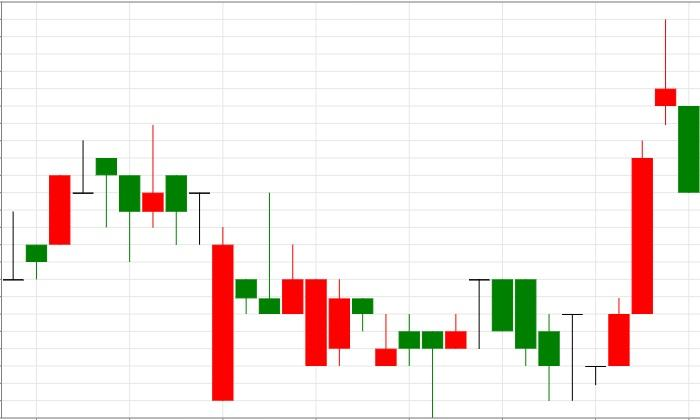hanging_man_fall: (2, 141, 118, 281)
inverse_hammer_rise: (96, 124, 398, 401), (96, 124, 281, 401)
three_white_soldiers_rise: (491, 19, 677, 401)
